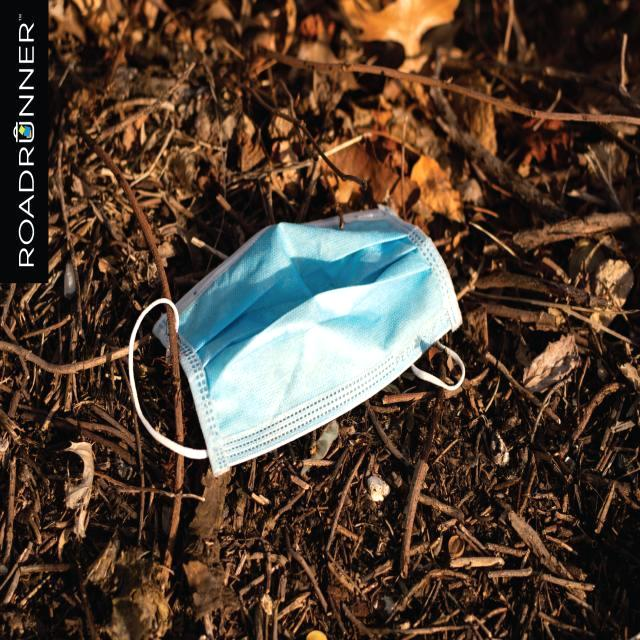Mask: (127, 205, 467, 481)
